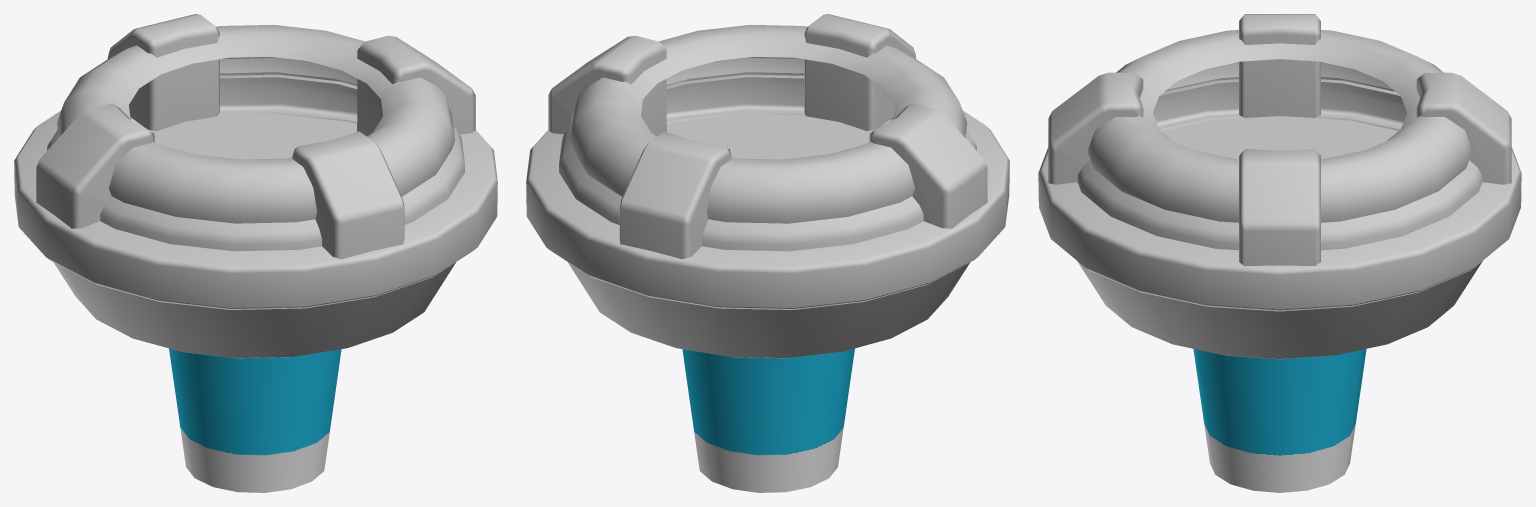
The model's file is trampoline_3_001.fbx.
3 renders of one model, left to right at view 1: azimuth 30°, elevation 25°; view 2: azimuth 150°, elevation 25°; view 3: azimuth 270°, elevation 25°, orthographic.
Visible parts, largest first — view 1: trampoline_3_001; view 2: trampoline_3_001; view 3: trampoline_3_001.
Boxes of the visible parts, x1,y1,x2,y2 form: trampoline_3_001: (14, 14, 497, 492); trampoline_3_001: (526, 14, 1009, 492); trampoline_3_001: (1038, 14, 1521, 492).
Bounding box in the file's own units: 266 × 266 × 228.
